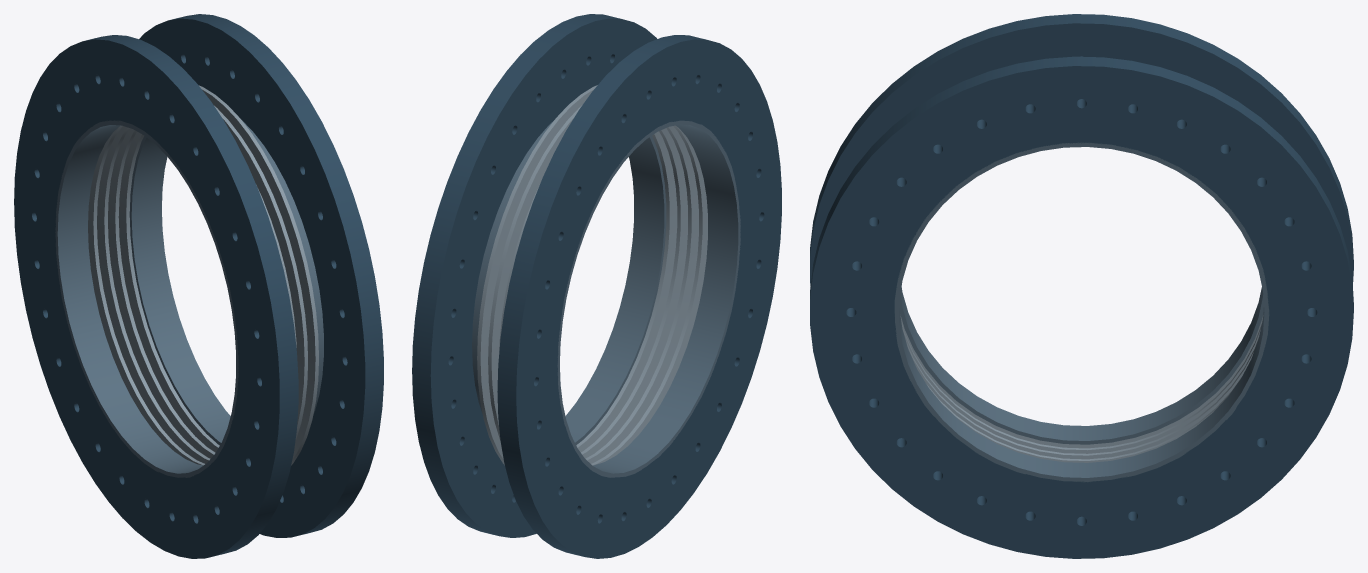
The model's file is flan-dn1200-L400-D1220-f.glb.
The picture shows the model from 3 angles, left to right: view 1: azimuth 30°, elevation 25°; view 2: azimuth 150°, elevation 25°; view 3: azimuth 270°, elevation 25°; orthographic projection. The views are drawn at different scales.
Parts seen in each view (by area): view 1: homut_flanec_1, homut_flanec_2, prokladka_silfon_1, patrubok_1, patrubok_2; view 2: homut_flanec_1, homut_flanec_2, prokladka_silfon_1, patrubok_1, patrubok_2; view 3: homut_flanec_2, homut_flanec_1, patrubok_2, patrubok_1, prokladka_silfon_1.
Boxes of the visible parts, box(x1,y1,x2,y2) form: homut_flanec_1: box(14, 35, 298, 558); homut_flanec_2: box(139, 14, 383, 537); prokladka_silfon_1: box(88, 85, 318, 465); patrubok_1: box(55, 120, 238, 477); patrubok_2: box(129, 119, 323, 445); homut_flanec_1: box(497, 35, 781, 558); homut_flanec_2: box(412, 14, 656, 537); prokladka_silfon_1: box(477, 85, 707, 465); patrubok_1: box(557, 120, 740, 477); patrubok_2: box(472, 121, 666, 445); homut_flanec_2: box(810, 56, 1353, 558); homut_flanec_1: box(810, 14, 1353, 285); patrubok_2: box(894, 142, 1269, 482); patrubok_1: box(899, 287, 1263, 444); prokladka_silfon_1: box(900, 315, 1263, 462).
Size of the model in its own units: 400 by 1768 by 1768.
